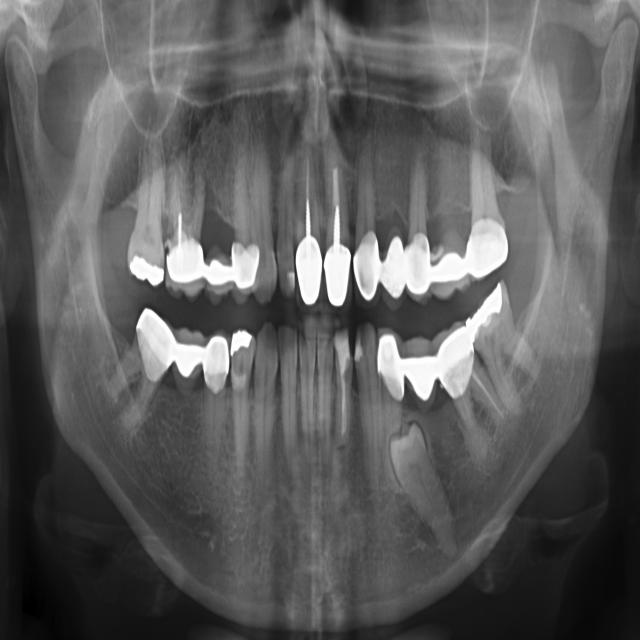tooth: (471, 282, 532, 414), (390, 424, 452, 552), (466, 127, 507, 276), (128, 139, 166, 284), (166, 160, 204, 298), (295, 156, 323, 303), (324, 162, 352, 304), (251, 152, 278, 299), (353, 157, 378, 301), (253, 325, 278, 459), (231, 329, 254, 467), (354, 324, 379, 450), (406, 152, 429, 285), (137, 309, 175, 380), (203, 215, 234, 302), (276, 158, 295, 297), (377, 331, 404, 422), (280, 323, 297, 449), (334, 328, 353, 434), (299, 325, 315, 443), (380, 236, 405, 310), (317, 330, 333, 442), (203, 334, 229, 393)
